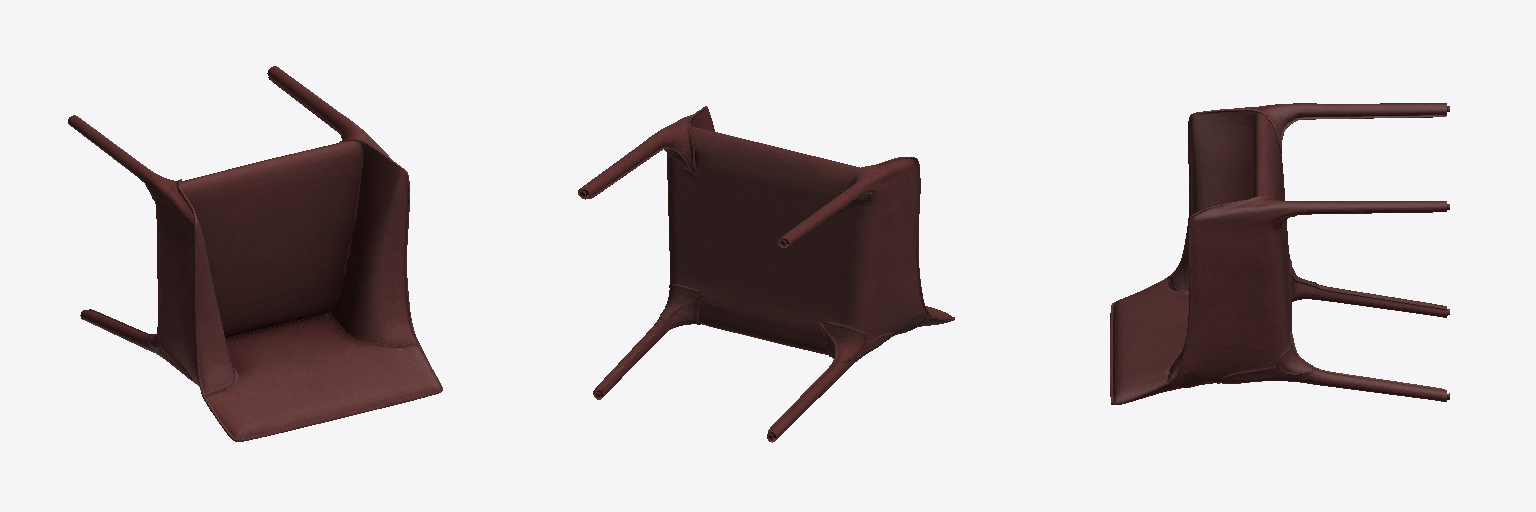
3 views of the same model, side by side, from view 1: azimuth 30°, elevation 25°; view 2: azimuth 150°, elevation 25°; view 3: azimuth 270°, elevation 25° (orthographic).
Size of the model in its own units: 0.5729 by 0.5242 by 0.7766.
1 materials, 1 textured.